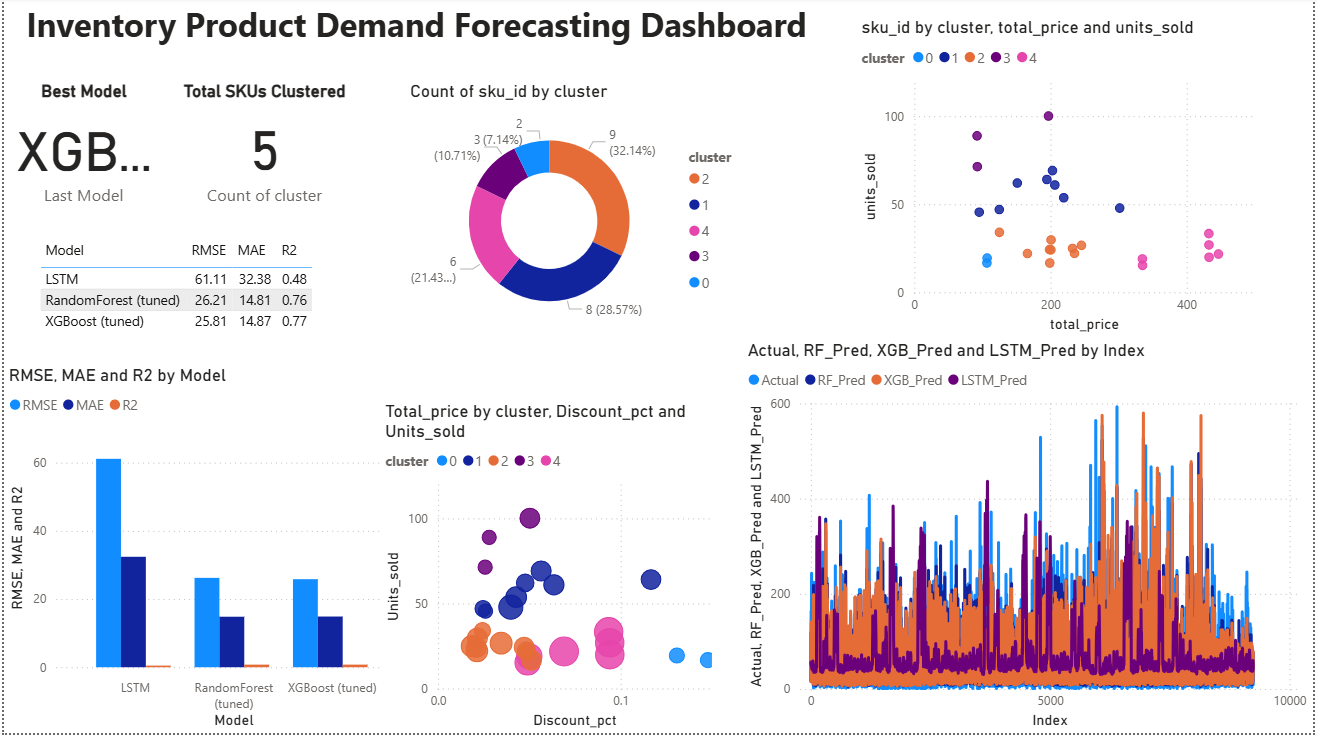

What the dashboard file says about the page in this screenshot:
{"tool":"powerbi","page":{"name":"Page 1","canvas":[1280,720],"ordinal":0},"visuals":[{"type":"card","title":"Best Model","fields":{"Values":["Min(model_results.Model)"]},"box":[0,82.3,170.2,126.2],"z":0},{"type":"actionButton","box":[0,0,100,40],"z":1000},{"type":"card","title":"Total SKUs Clustered","fields":{"Values":["Count(sku_summary.cluster)"]},"box":[170.2,82.3,170.2,126.2],"z":2000},{"type":"tableEx","fields":{"Values":["model_results.Model","model_results.MAE","model_results.RMSE","model_results.R2"]},"box":[28.8,230.5,282.7,104.3],"z":3000},{"type":"clusteredColumnChart","fields":{"Category":["model_results.Model"],"Y":["Sum(model_results.RMSE)","Sum(model_results.MAE)","Sum(model_results.R2)"]},"box":[0,359.5,403.4,360.9],"z":4000},{"type":"lineChart","fields":{"Y":["Sum(actual_vs_pred.Actual)","Sum(actual_vs_pred.RF_Pred)","Sum(actual_vs_pred.XGB_Pred)"],"Category":["actual_vs_pred.Index.1"]},"box":[723.2,334.8,557.1,385.6],"z":5000},{"type":"scatterChart","fields":{"X":["sku_summary.total_price"],"Y":["sku_summary.units_sold"],"Series":["sku_summary.cluster"]},"box":[806.9,0,404.8,312.9],"z":6000},{"type":"scatterChart","fields":{"X":["sku_summary.discount_pct"],"Y":["sku_summary.units_sold"],"Size":["Sum(sku_summary.total_price)"],"Series":["sku_summary.cluster"]},"box":[367.8,395.2,341.7,325.2],"z":7000},{"type":"donutChart","fields":{"Category":["sku_summary.cluster"],"Y":["CountNonNull(sku_summary.sku_id)"]},"box":[392.5,82.3,343.1,255.2],"z":8000},{"type":"textbox","box":[0,0,806.9,57.6],"z":9000}]}

Visuals, with their boxes in screenshot pixels (x1, y1, x2, y2), scaled from the page's 1280x720 canvas onto the 1317x737 screenshot:
"Best Model" card: select_region(0, 84, 175, 213)
actionButton: select_region(0, 0, 103, 41)
"Total SKUs Clustered" card: select_region(175, 84, 350, 213)
tableEx - model_results.Model x model_results.MAE: select_region(30, 236, 321, 343)
clusteredColumnChart - model_results.Model x Sum(model_results.RMSE): select_region(0, 368, 415, 736)
lineChart - Sum(actual_vs_pred.Actual) x Sum(actual_vs_pred.RF_Pred): select_region(744, 343, 1316, 736)
scatterChart - sku_summary.total_price x sku_summary.units_sold: select_region(830, 0, 1247, 320)
scatterChart - sku_summary.discount_pct x sku_summary.units_sold: select_region(378, 405, 730, 736)
donutChart - sku_summary.cluster x CountNonNull(sku_summary.sku_id): select_region(404, 84, 757, 345)
textbox: select_region(0, 0, 830, 59)
